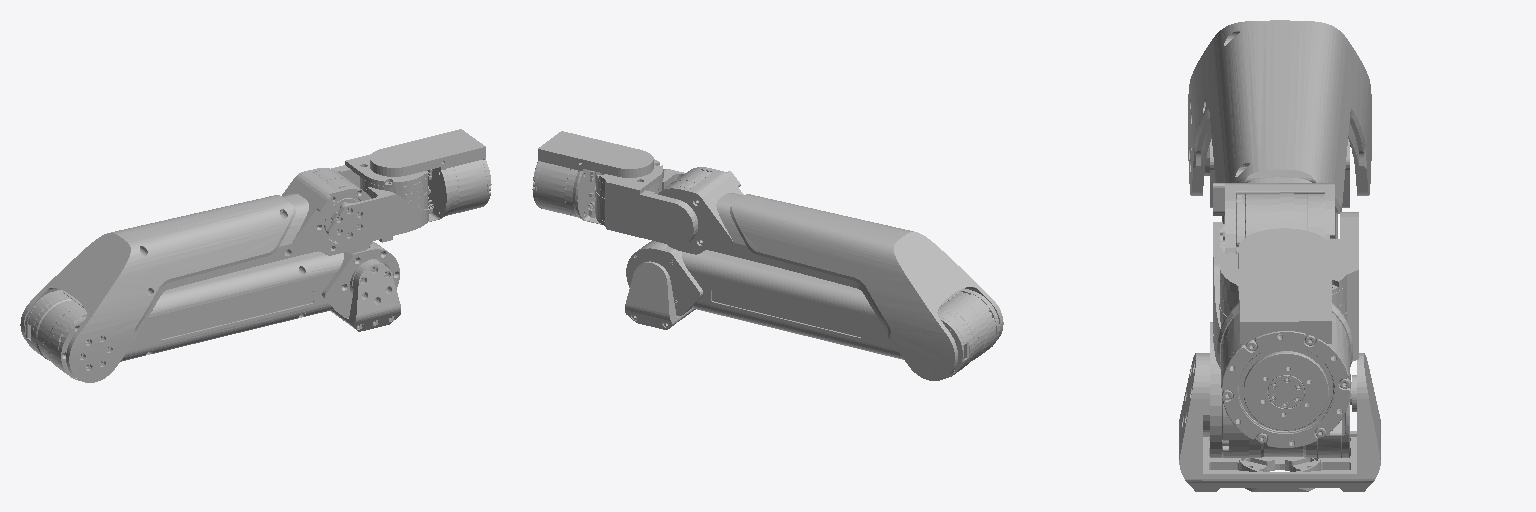
URDF robot description (airbot_play_v1):
<?xml version="1.0" encoding="utf-8"?>
<!-- This URDF was automatically created by SolidWorks to URDF Exporter! Originally created by [author] ([email redacted]) 
     Commit Version: 1.6.0-4-g7f85cfe  Build Version: 1.6.7995.38578
     For more information, please see http://wiki.ros.org/sw_urdf_exporter -->
<robot
  name="airbot_play_v1">
  <link
    name="base_link">
    <inertial>
      <origin
        xyz="-2.9949E-05 3.0537E-05 0.027284"
        rpy="0 0 0" />
      <mass
        value="0.44071" />
      <inertia
        ixx="0.00017392"
        ixy="-3.5E-07"
        ixz="-5.9E-07"
        iyy="0.00017547"
        iyz="1.13E-06"
        izz="0.00015925" />
    </inertial>
    <visual>
      <origin
        xyz="0 0 0"
        rpy="0 0 0" />
      <geometry>
        <mesh
          filename="package://airbot_play_v1/meshes/base_link.STL" />
      </geometry>
      <material
        name="">
        <color
          rgba="0.75294 0.75294 0.75294 1" />
      </material>
    </visual>
    <collision>
      <origin
        xyz="0 0 0"
        rpy="0 0 0" />
      <geometry>
        <mesh
          filename="package://airbot_play_v1/meshes/base_link.STL" />
      </geometry>
    </collision>
  </link>
  <link
    name="link1">
    <inertial>
      <origin
        xyz="-0.00011034 -6.8411E-06 -0.023655"
        rpy="0 0 0" />
      <mass
        value="0.078163" />
      <inertia
        ixx="9.22E-05"
        ixy="-1E-08"
        ixz="5E-08"
        iyy="3.014E-05"
        iyz="-7.4E-07"
        izz="8.652E-05" />
    </inertial>
    <visual>
      <origin
        xyz="0 0 0"
        rpy="0 0 0" />
      <geometry>
        <mesh
          filename="package://airbot_play_v1/meshes/link1.STL" />
      </geometry>
      <material
        name="">
        <color
          rgba="0.75294 0.75294 0.75294 1" />
      </material>
    </visual>
    <collision>
      <origin
        xyz="0 0 0"
        rpy="0 0 0" />
      <geometry>
        <mesh
          filename="package://airbot_play_v1/meshes/link1.STL" />
      </geometry>
    </collision>
  </link>
  <joint
    name="joint1"
    type="revolute">
    <origin
      xyz="0 0 0.1005"
      rpy="0 0 0" />
    <parent
      link="base_link" />
    <child
      link="link1" />
    <axis
      xyz="0 0 1" />
    <limit
      lower="-10"
      upper="10"
      effort="100"
      velocity="110" />
  </joint>
  <link
    name="link2">
    <inertial>
      <origin
        xyz="0.13157 0.00062386 -0.0022903"
        rpy="0 0 0" />
      <mass
        value="1.0604" />
      <inertia
        ixx="0.00049116"
        ixy="5.47E-06"
        ixz="6.4E-07"
        iyy="0.01580055"
        iyz="1.04E-06"
        izz="0.01574902" />
    </inertial>
    <visual>
      <origin
        xyz="0 0 0"
        rpy="0 0 0" />
      <geometry>
        <mesh
          filename="package://airbot_play_v1/meshes/link2.STL" />
      </geometry>
      <material
        name="">
        <color
          rgba="0.75294 0.75294 0.75294 1" />
      </material>
    </visual>
    <collision>
      <origin
        xyz="0 0 0"
        rpy="0 0 0" />
      <geometry>
        <mesh
          filename="package://airbot_play_v1/meshes/link2.STL" />
      </geometry>
    </collision>
  </link>
  <joint
    name="joint2"
    type="revolute">
    <origin
      xyz="0 0 0"
      rpy="-1.5708 0 3.1416" />
    <parent
      link="link1" />
    <child
      link="link2" />
    <axis
      xyz="0 0 1" />
    <limit
      lower="-10"
      upper="10"
      effort="100"
      velocity="110" />
  </joint>
  <link
    name="link3">
    <inertial>
      <origin
        xyz="0.18065 0.0086528 0.0017767"
        rpy="0 0 0" />
      <mass
        value="0.55999" />
      <inertia
        ixx="0.00044245"
        ixy="-0.00043669"
        ixz="-9.35E-06"
        iyy="0.0052357"
        iyz="-9.31E-06"
        izz="0.0052474" />
    </inertial>
    <visual>
      <origin
        xyz="0 0 0"
        rpy="0 0 0" />
      <geometry>
        <mesh
          filename="package://airbot_play_v1/meshes/link3.STL" />
      </geometry>
      <material
        name="">
        <color
          rgba="0.75294 0.75294 0.75294 1" />
      </material>
    </visual>
    <collision>
      <origin
        xyz="0 0 0"
        rpy="0 0 0" />
      <geometry>
        <mesh
          filename="package://airbot_play_v1/meshes/link3.STL" />
      </geometry>
    </collision>
  </link>
  <joint
    name="joint3"
    type="revolute">
    <origin
      xyz="0.264 0 0"
      rpy="0 0 -2.9159" />
    <parent
      link="link2" />
    <child
      link="link3" />
    <axis
      xyz="0 0 1" />
    <limit
      lower="-10"
      upper="10"
      effort="100"
      velocity="110" />
  </joint>
  <link
    name="link4">
    <inertial>
      <origin
        xyz="0.054496 -0.0020302 0.0011432"
        rpy="0 0 0" />
      <mass
        value="0.34333" />
      <inertia
        ixx="0.00017672"
        ixy="2.2E-06"
        ixz="-1.227E-05"
        iyy="0.00026353"
        iyz="-5.14E-06"
        izz="0.00022296" />
    </inertial>
    <visual>
      <origin
        xyz="0 0 0"
        rpy="0 0 0" />
      <geometry>
        <mesh
          filename="package://airbot_play_v1/meshes/link4.STL" />
      </geometry>
      <material
        name="">
        <color
          rgba="0.75294 0.75294 0.75294 1" />
      </material>
    </visual>
    <collision>
      <origin
        xyz="0 0 0"
        rpy="0 0 0" />
      <geometry>
        <mesh
          filename="package://airbot_play_v1/meshes/link4.STL" />
      </geometry>
    </collision>
  </link>
  <joint
    name="joint4"
    type="revolute">
    <origin
      xyz="0.25137 0 -0.002"
      rpy="0 0 -0.22569" />
    <parent
      link="link3" />
    <child
      link="link4" />
    <axis
      xyz="0 0 1" />
    <limit
      lower="-10"
      upper="10"
      effort="100"
      velocity="110" />
  </joint>
  <link
    name="link5">
    <inertial>
      <origin
        xyz="-0.00042679 0.053307 0.00073106"
        rpy="0 0 0" />
      <mass
        value="0.33126" />
      <inertia
        ixx="0.00040201"
        ixy="1.6E-06"
        ixz="-5.07E-06"
        iyy="0.00042082"
        iyz="1.75E-06"
        izz="0.00036657" />
    </inertial>
    <visual>
      <origin
        xyz="0 0 0"
        rpy="0 0 0" />
      <geometry>
        <mesh
          filename="package://airbot_play_v1/meshes/link5.STL" />
      </geometry>
      <material
        name="">
        <color
          rgba="0.75294 0.75294 0.75294 1" />
      </material>
    </visual>
    <collision>
      <origin
        xyz="0 0 0"
        rpy="0 0 0" />
      <geometry>
        <mesh
          filename="package://airbot_play_v1/meshes/link5.STL" />
      </geometry>
    </collision>
  </link>
  <joint
    name="joint5"
    type="revolute">
    <origin
      xyz="0.06 0 0"
      rpy="-1.5708 -1.5708 0" />
    <parent
      link="link4" />
    <child
      link="link5" />
    <axis
      xyz="0 0 1" />
    <limit
      lower="-10"
      upper="10"
      effort="100"
      velocity="110" />
  </joint>
  <link
    name="gripper_link">
    <inertial>
      <origin
        xyz="0 0 0"
        rpy="0 0 0" />
      <mass
        value="1E-15" />
      <inertia
        ixx="1E-11"
        ixy="1E-15"
        ixz="1E-15"
        iyy="1E-11"
        iyz="1E-15"
        izz="1E-11" />
    </inertial>
  </link>
  <joint
    name="joint6"
    type="revolute">
    <origin
      xyz="0 0 0"
      rpy="-1.5708 0 0" />
    <parent
      link="link5" />
    <child
      link="gripper_link" />
    <axis
      xyz="0 0 1" />
    <limit
      lower="-10"
      upper="10"
      effort="100"
      velocity="1000" />
  </joint>
  <link
    name="custom_end_link">
    <inertial>
      <origin
        xyz="0 0 0"
        rpy="0 0 0" />
      <mass
        value="1E-15" />
      <inertia
        ixx="1E-11"
        ixy="1E-15"
        ixz="1E-15"
        iyy="1E-11"
        iyz="1E-15"
        izz="1E-11" />
    </inertial>
  </link>
  <joint
    name="joint_custom_end"
    type="fixed">
    <origin
      xyz="0 0 0.078"
      rpy="1.5708 -1.5708 0" />
    <parent
      link="gripper_link" />
    <child
      link="custom_end_link" />
  </joint>
</robot>

--- Facts derived from the render (not from the file) ---
Views: 3 orthographic renders of the robot side by side, from view 1: azimuth 30°, elevation 25°; view 2: azimuth 150°, elevation 25°; view 3: azimuth 270°, elevation 25°.
Model airbot_play_v1 with 8 links and 7 joints (6 revolute, 1 fixed), rooted at base_link, posed all joints at 0.
Links seen in each view (by area): view 1: link3, link2, link5, link4, link1; view 2: link3, link2, link5, link4, link1; view 3: link3, link5, link1, link4, link2.
Link boxes in pixels (x1,y1,x2,y2): link3: [20, 168, 371, 382]; link2: [24, 242, 399, 380]; link5: [370, 129, 491, 222]; link4: [327, 154, 428, 253]; link1: [331, 261, 400, 331]; link3: [658, 167, 1003, 380]; link2: [626, 241, 999, 378]; link5: [532, 131, 653, 224]; link4: [595, 159, 697, 245]; link1: [625, 261, 695, 329]; link3: [1188, 20, 1371, 253]; link5: [1217, 228, 1352, 447]; link1: [1179, 353, 1380, 491]; link4: [1213, 212, 1358, 366]; link2: [1210, 139, 1356, 457].
Bounding box of the posed robot: 0.4112 × 0.0872 × 0.1288 m (x, y, z).
5 mesh visuals loaded from 6 distinct referenced files (5 binary STL); not drawn: 1 (reference not matched to a file when rendering).